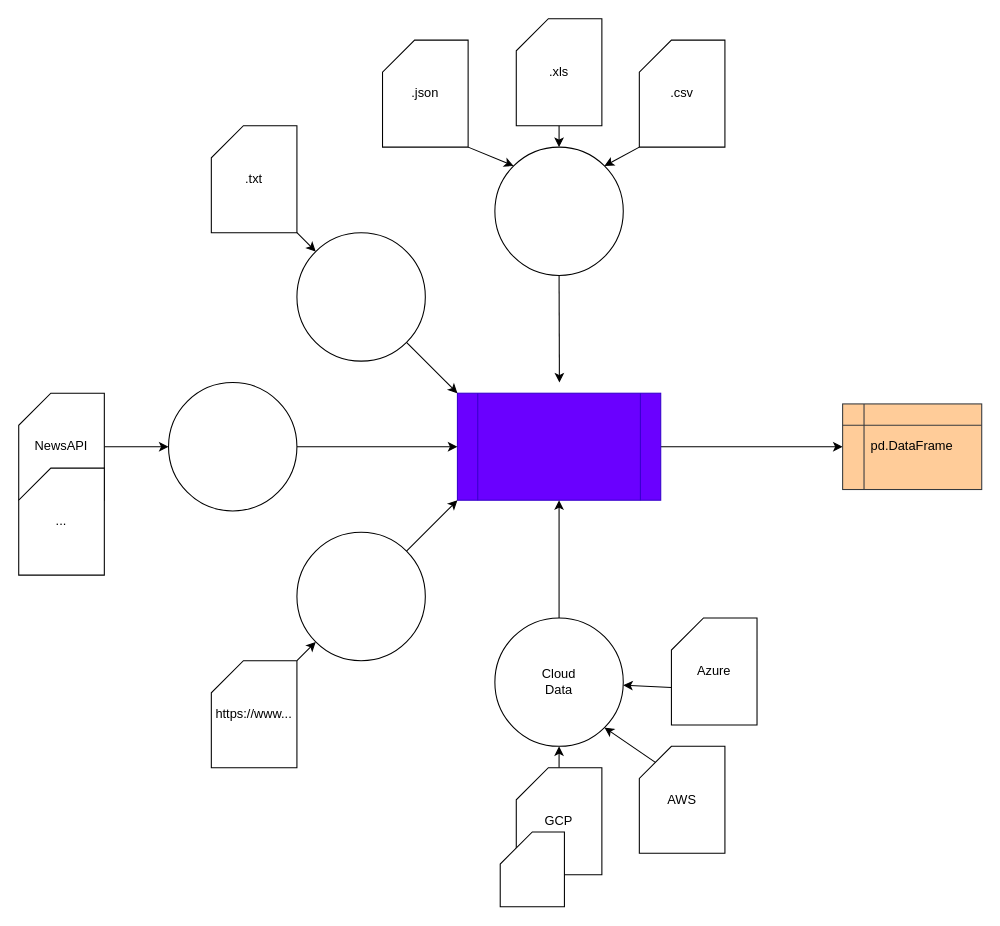
The diagram is 1000 pixels wide and 926 high, and some of its shapes have lost their labels. The centre of each missing label's shape, as x and y in pixels:
analyst_ingest_data: the point at 558,446
API Data: the point at 232,446
Google Sheet: the point at 531,869
Scraped Data: the point at 360,596
Structured Data: the point at 558,211
Unstructured Data: the point at 360,296
